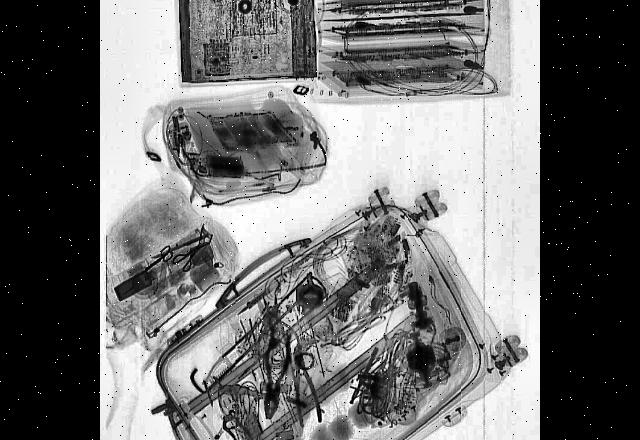Pliers: (247, 280, 303, 380), (256, 328, 296, 424), (286, 341, 324, 431)
